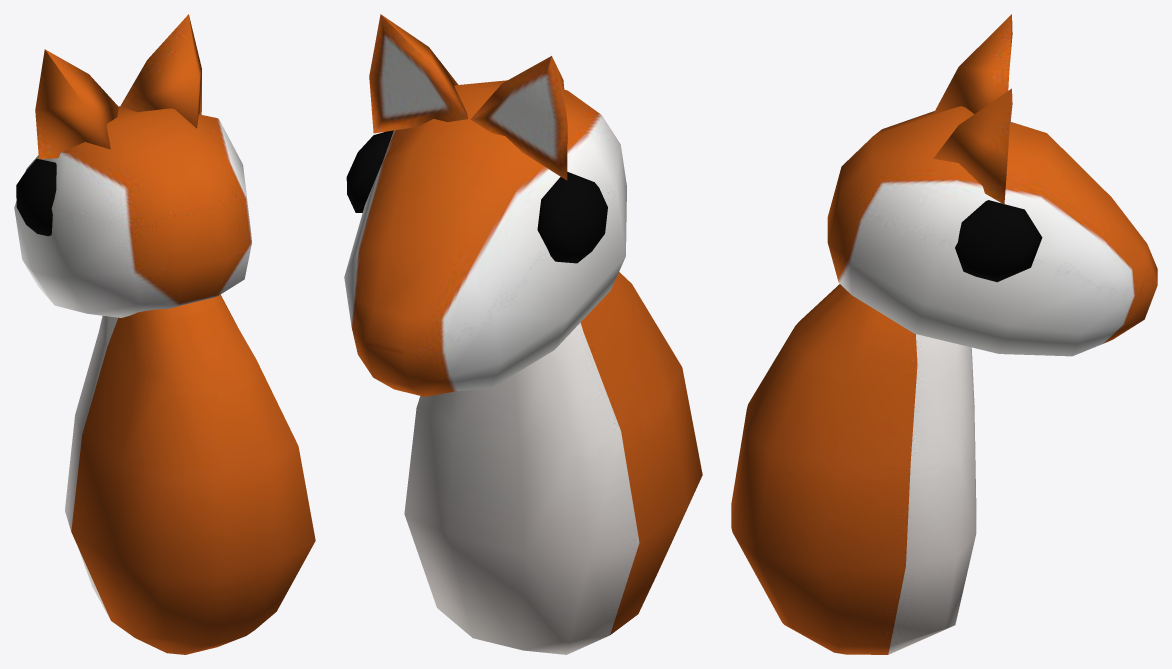
The model's file is baby01.FBX.
3 renders of one model, left to right at view 1: azimuth 30°, elevation 25°; view 2: azimuth 150°, elevation 25°; view 3: azimuth 270°, elevation 25°, orthographic. The views are drawn at different scales.
Parts seen in each view (by area): view 1: baby01; view 2: baby01; view 3: baby01.
Part boxes in pixels (x1,y1,x2,y2): baby01: [14, 14, 315, 654]; baby01: [344, 14, 702, 654]; baby01: [731, 14, 1157, 654].
Bounding box in the file's own units: 0.0584 × 0.157 × 0.1028.
